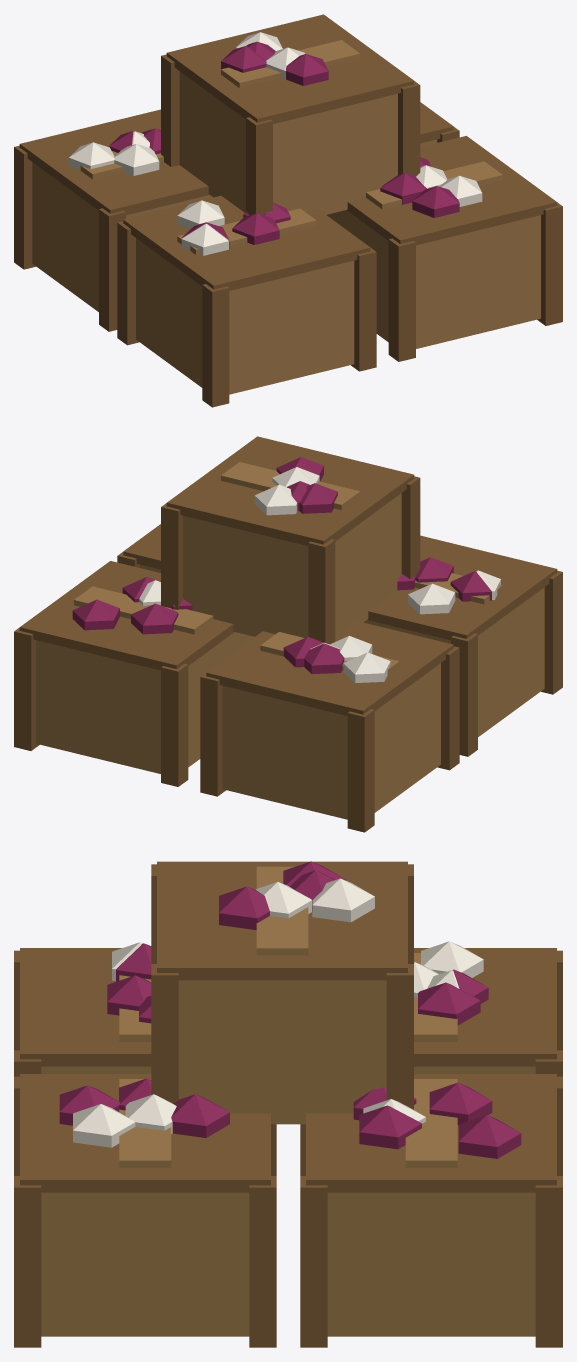
File: pile_roots_2.glb
3 renders of one model, top to bottom at view 1: azimuth 30°, elevation 25°; view 2: azimuth 150°, elevation 25°; view 3: azimuth 270°, elevation 25°, orthographic. The views are drawn at different scales.
Parts seen in each view (by area): view 1: pile_roots_2; view 2: pile_roots_2; view 3: pile_roots_2.
Part boxes in pixels (x1,y1,x2,y2): pile_roots_2: [14, 14, 562, 407]; pile_roots_2: [14, 436, 562, 832]; pile_roots_2: [14, 861, 562, 1347].
Bounding box in the file's own units: 1.43 × 0.969 × 1.4.
